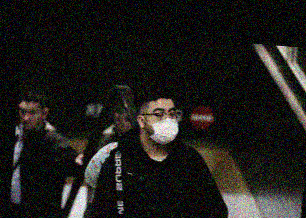with_mask: (144, 104, 180, 145)
without_mask: (16, 104, 38, 131)
